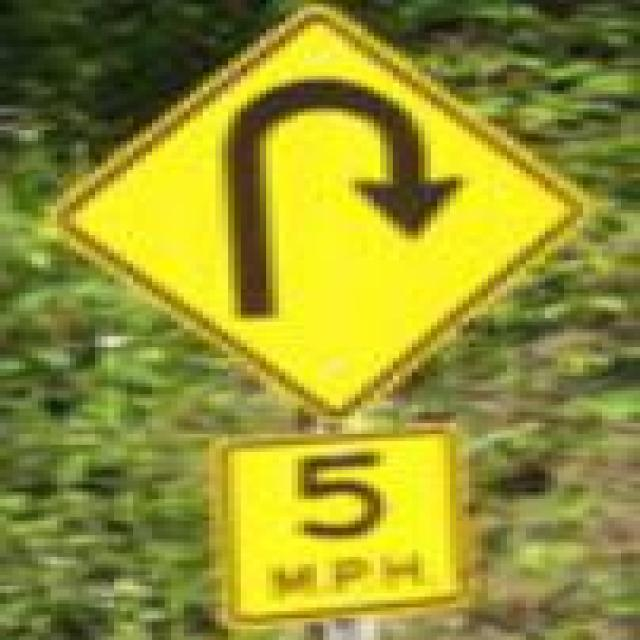Uturn: (38, 0, 583, 419)
